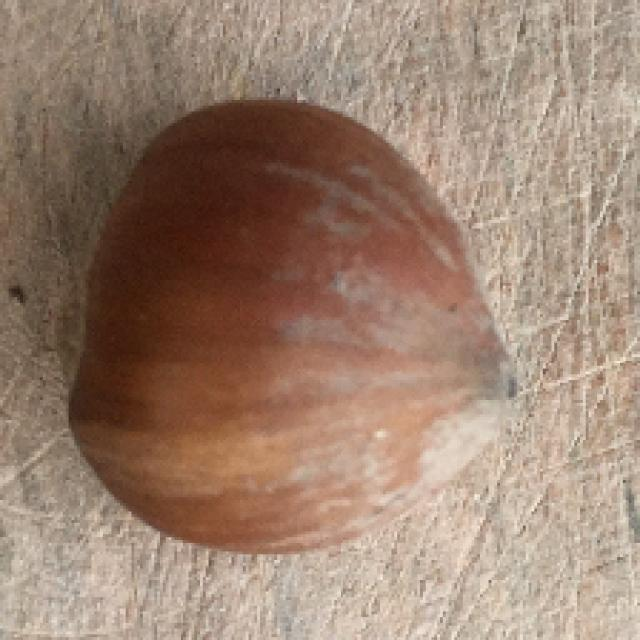DamagedHazelnut: (54, 97, 518, 556)
